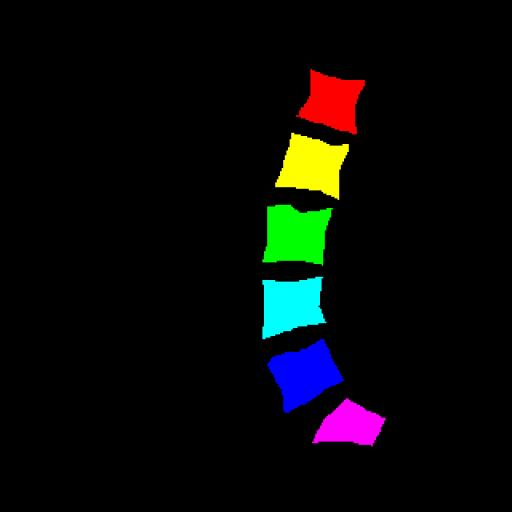L1: (297, 69, 365, 134)
L2: (275, 133, 349, 198)
L3: (263, 205, 332, 264)
L4: (263, 277, 325, 338)
L5: (268, 339, 343, 412)
S1: (313, 398, 385, 444)
